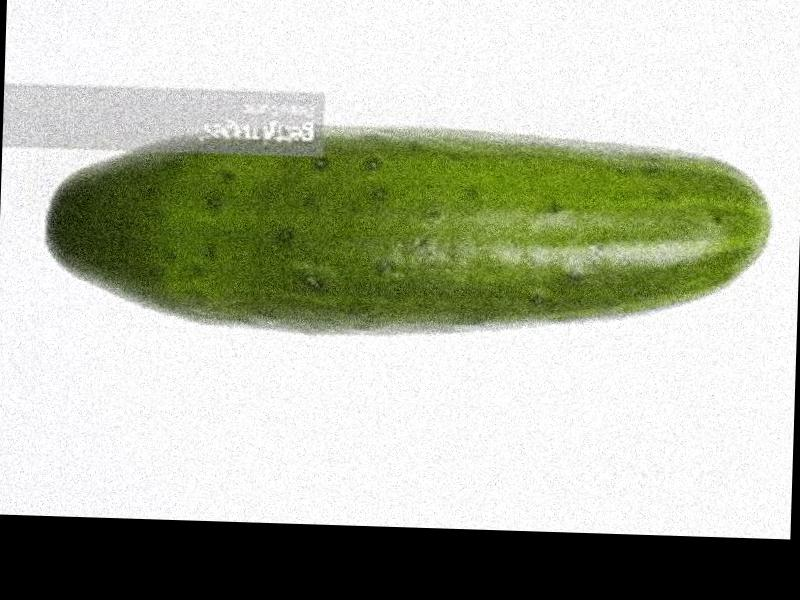Cucumber: (34, 116, 777, 350)
